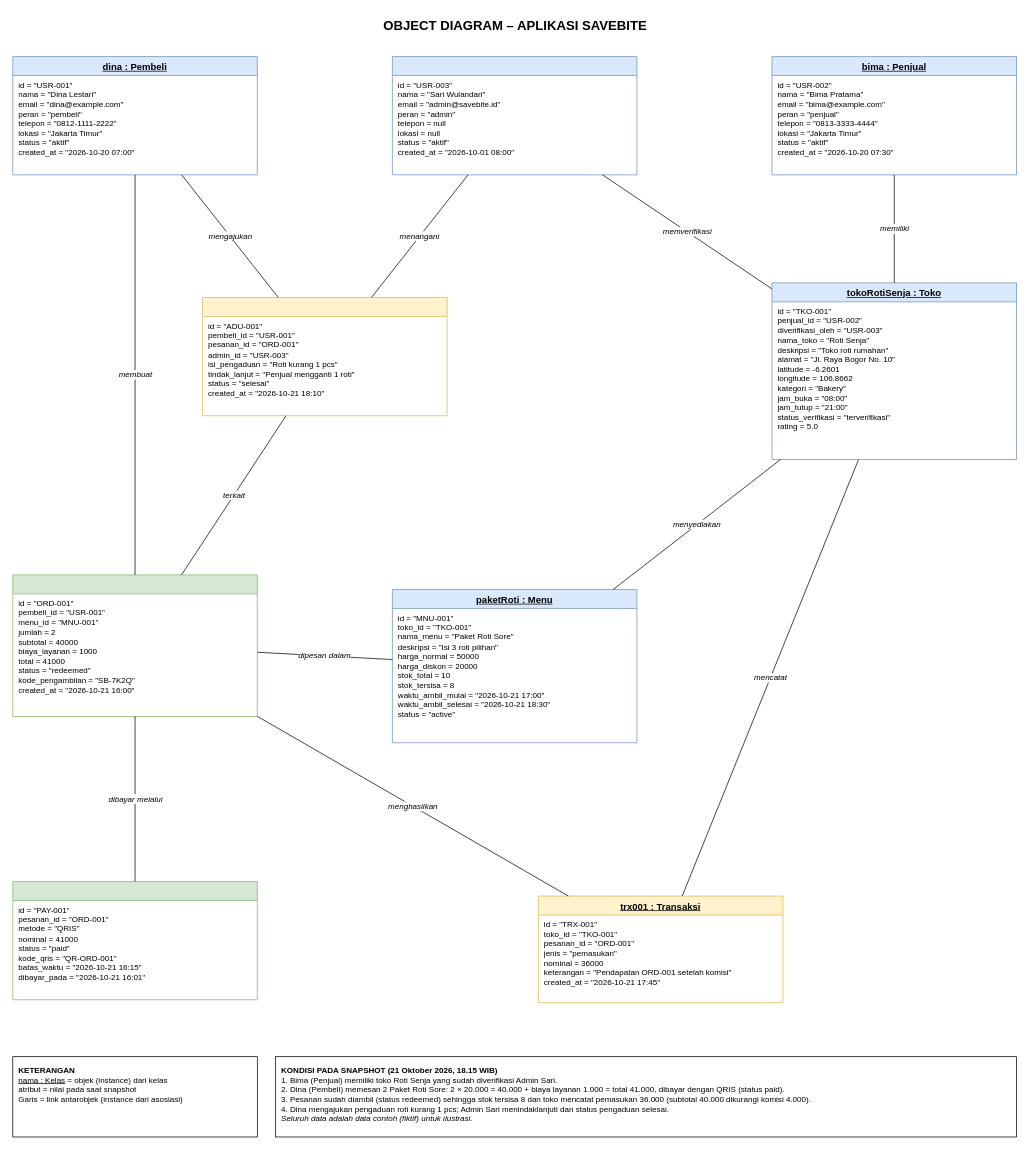
The diagram is 1029 pixels wide and 1150 high, and some of its shapes have lost their labels. Each missing label, with the box of its shape:
aduan001 : Pengaduan: (202, 297, 447, 416)
bayar001 : Pembayaran: (12, 881, 257, 1000)
pesanan001 : Pesanan: (12, 574, 257, 716)
sari : Admin: (392, 56, 637, 175)
